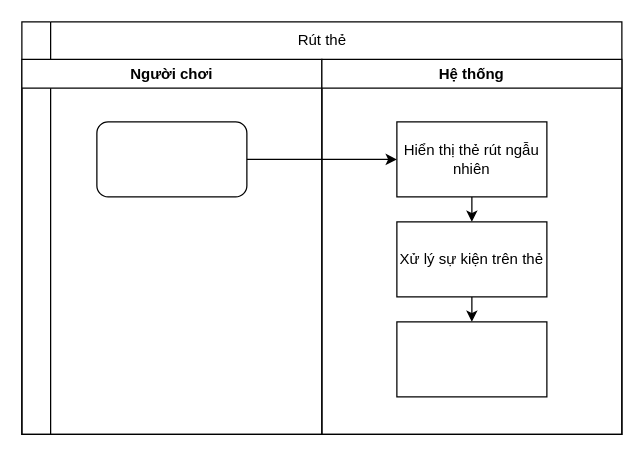
This 644x456 diagram has some shape labels left out. The shapes that lost their labels are listed below. From the top down, each one's centre as x and y in pixels, then its label:
At point 171,159: "Đến ô cơ hội".
At point 471,359: "Cập nhật tài sản, trạng thái người chơi".
